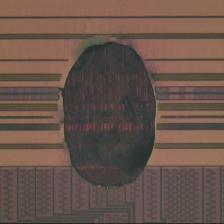BLOCK ETCH: (53, 31, 169, 197)
